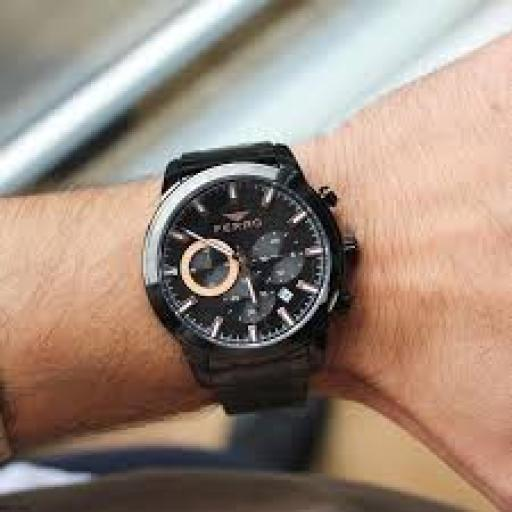KolSaati: (140, 111, 361, 420)
